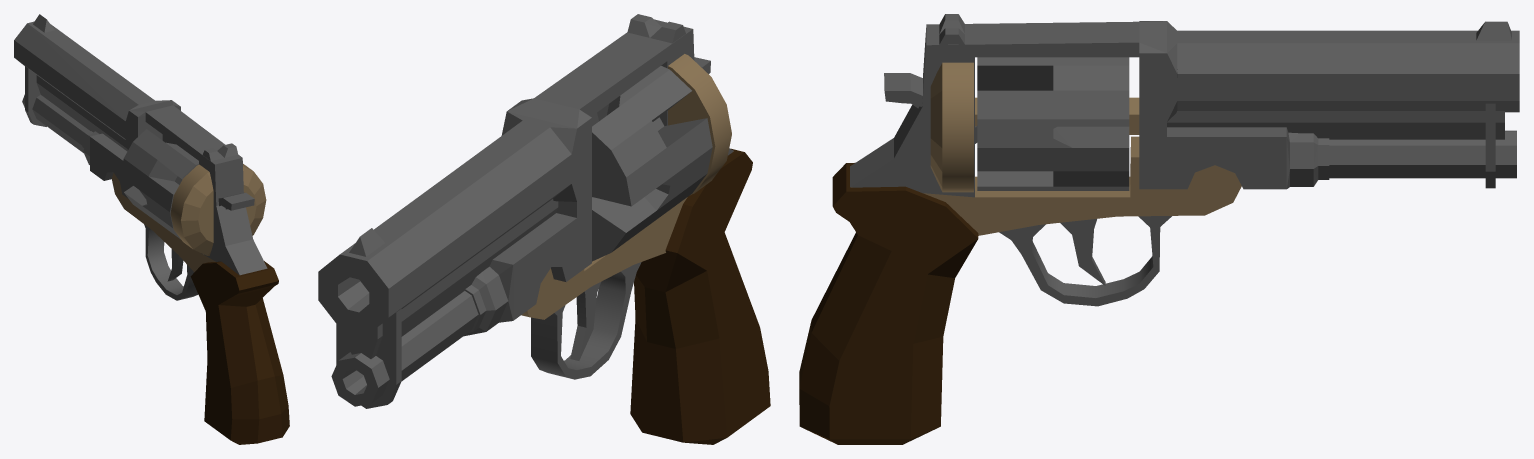
File: revolver.glb
The picture shows the model from 3 angles, left to right: view 1: azimuth 30°, elevation 25°; view 2: azimuth 150°, elevation 25°; view 3: azimuth 270°, elevation 25°; orthographic projection. The views are drawn at different scales.
Visible parts, largest first — view 1: GreaterBarrel_11, Handle_12, Cylinder_0, CylinderHolder_10, TriggerGuard_14, Lower_13, BarrelBind2_9, BarrelBind_8, Hammer_4, Trigger_2; view 2: GreaterBarrel_11, Handle_12, Cylinder_0, TriggerGuard_14, BarrelBind2_9, Lower_13, CylinderHolder_10, BarrelBind_8, Trigger_2; view 3: GreaterBarrel_11, Handle_12, Cylinder_0, Lower_13, BarrelBind2_9, CylinderHolder_10, TriggerGuard_14, Trigger_2, Hammer_4, BarrelBind_8.
Part boxes in pixels (x1,y1,x2,y2): GreaterBarrel_11: (14, 14, 267, 275); Handle_12: (190, 261, 289, 444); Cylinder_0: (120, 129, 198, 239); CylinderHolder_10: (170, 164, 266, 255); TriggerGuard_14: (144, 224, 198, 300); Lower_13: (112, 173, 215, 272); BarrelBind2_9: (36, 75, 127, 151); BarrelBind_8: (25, 66, 46, 126); Hammer_4: (218, 192, 254, 210); Trigger_2: (167, 249, 183, 281); GreaterBarrel_11: (318, 14, 733, 406); Handle_12: (630, 148, 770, 444); Cylinder_0: (591, 66, 712, 261); TriggerGuard_14: (531, 262, 641, 379); BarrelBind2_9: (345, 199, 558, 358); Lower_13: (521, 151, 733, 319); CylinderHolder_10: (668, 54, 731, 195); BarrelBind_8: (336, 309, 401, 408); Trigger_2: (570, 282, 600, 360); GreaterBarrel_11: (850, 14, 1519, 197); Handle_12: (799, 162, 978, 444); Cylinder_0: (977, 57, 1129, 190); Lower_13: (851, 136, 1241, 235); BarrelBind2_9: (1167, 111, 1504, 139); CylinderHolder_10: (930, 62, 1139, 192); TriggerGuard_14: (999, 216, 1171, 306); Trigger_2: (1060, 219, 1105, 285); Hammer_4: (884, 73, 977, 143); BarrelBind_8: (1485, 103, 1495, 188).
Size of the model in its own units: 1.48 by 4.4 by 7.02.
